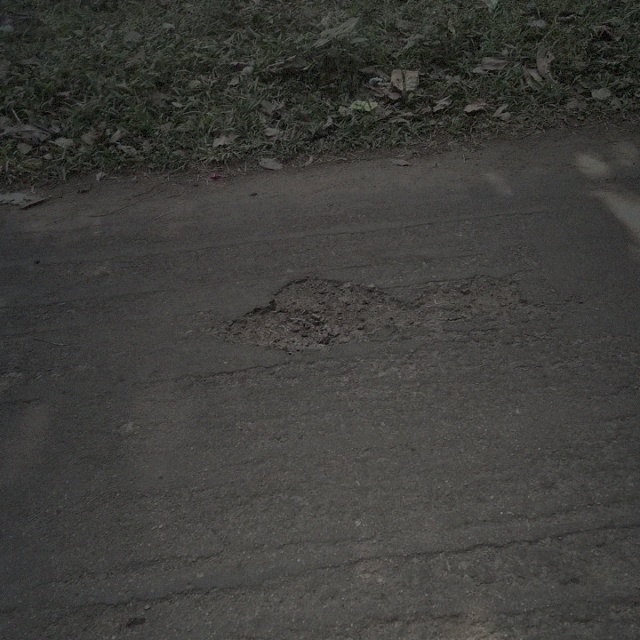pothole: (213, 268, 532, 352)
